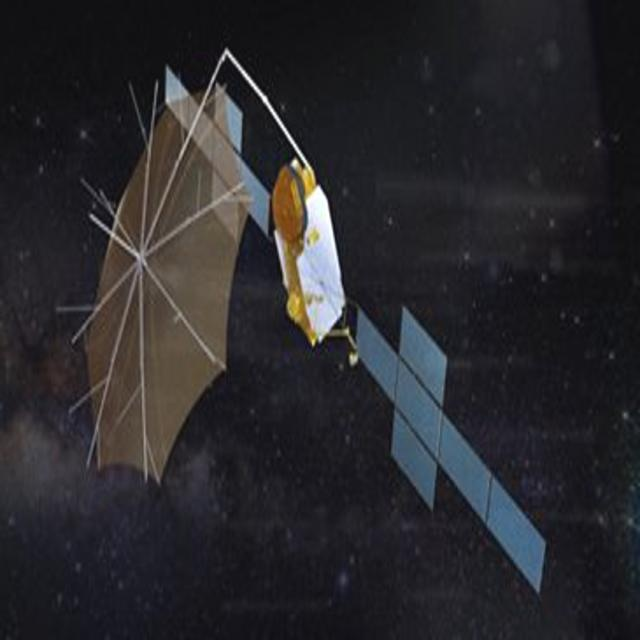medium_debris: (74, 51, 555, 602)
